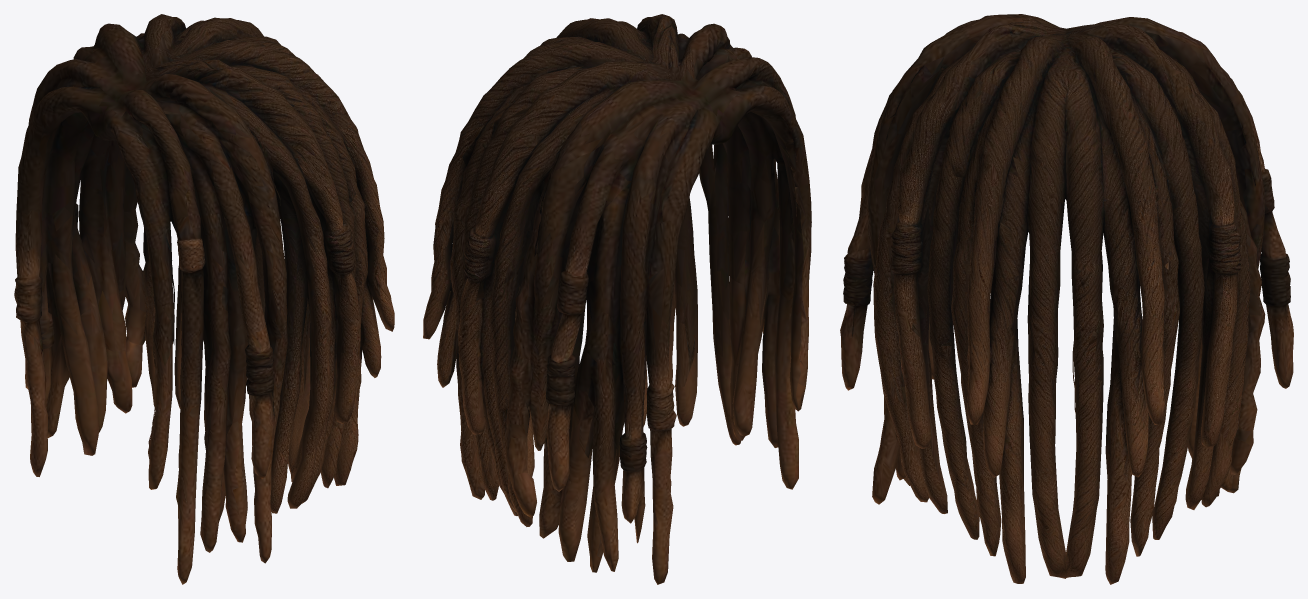
Rendered from dread_castanho.glb.
3 renders of one model, left to right at view 1: azimuth 30°, elevation 25°; view 2: azimuth 150°, elevation 25°; view 3: azimuth 270°, elevation 25°, orthographic. The views are drawn at different scales.
Parts seen in each view (by area): view 1: Prop_dread; view 2: Prop_dread; view 3: Prop_dread.
Part boxes in pixels (<box>): Prop_dread: <box>14,14,394,584</box>; Prop_dread: <box>423,14,811,584</box>; Prop_dread: <box>840,14,1293,584</box>.
Bounding box in the file's own units: 0.2139 × 0.36 × 0.2945.
Materials: 18 (18 with a texture image).
